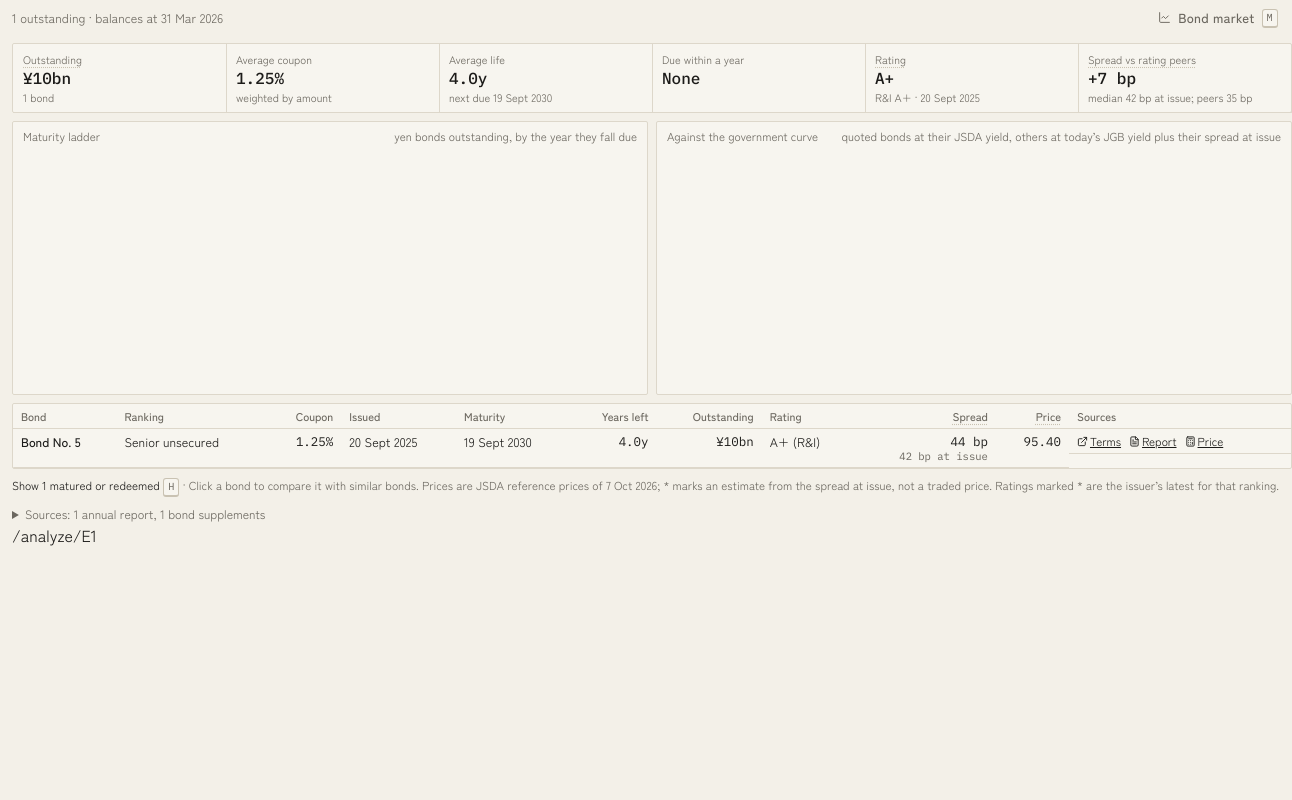
Company bonds › summarises the company’s bonds and hides matured ones until asked
Expected: the text "¥10bn" is shown, x1=23 y1=68 x2=71 y2=88
Expected: the text "+7 bp" is shown, x1=1088 y1=68 x2=1136 y2=88
Press h
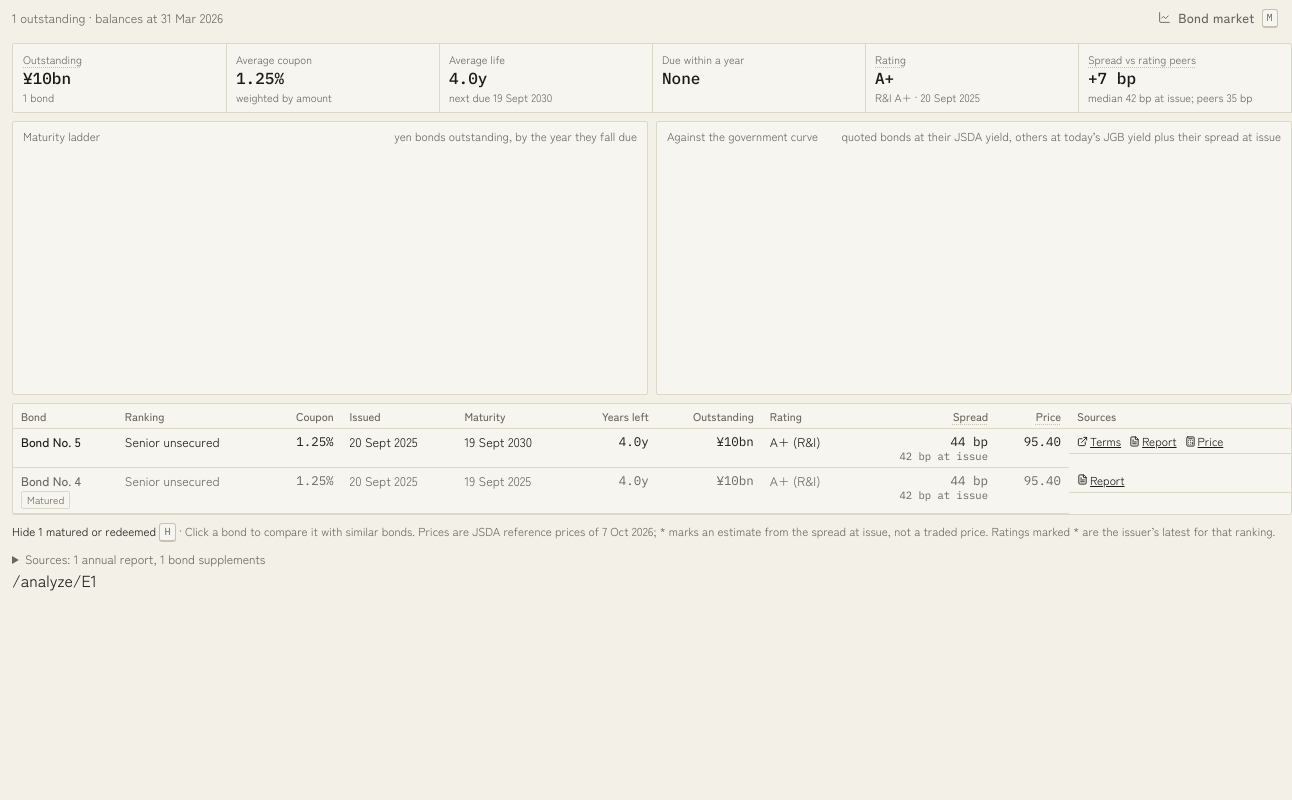
Click the row named "アルファ自動車株式会社第5回無担保社債(社債間限定同順位特約付)": (652, 448) x1=13 y1=429 x2=1291 y2=468
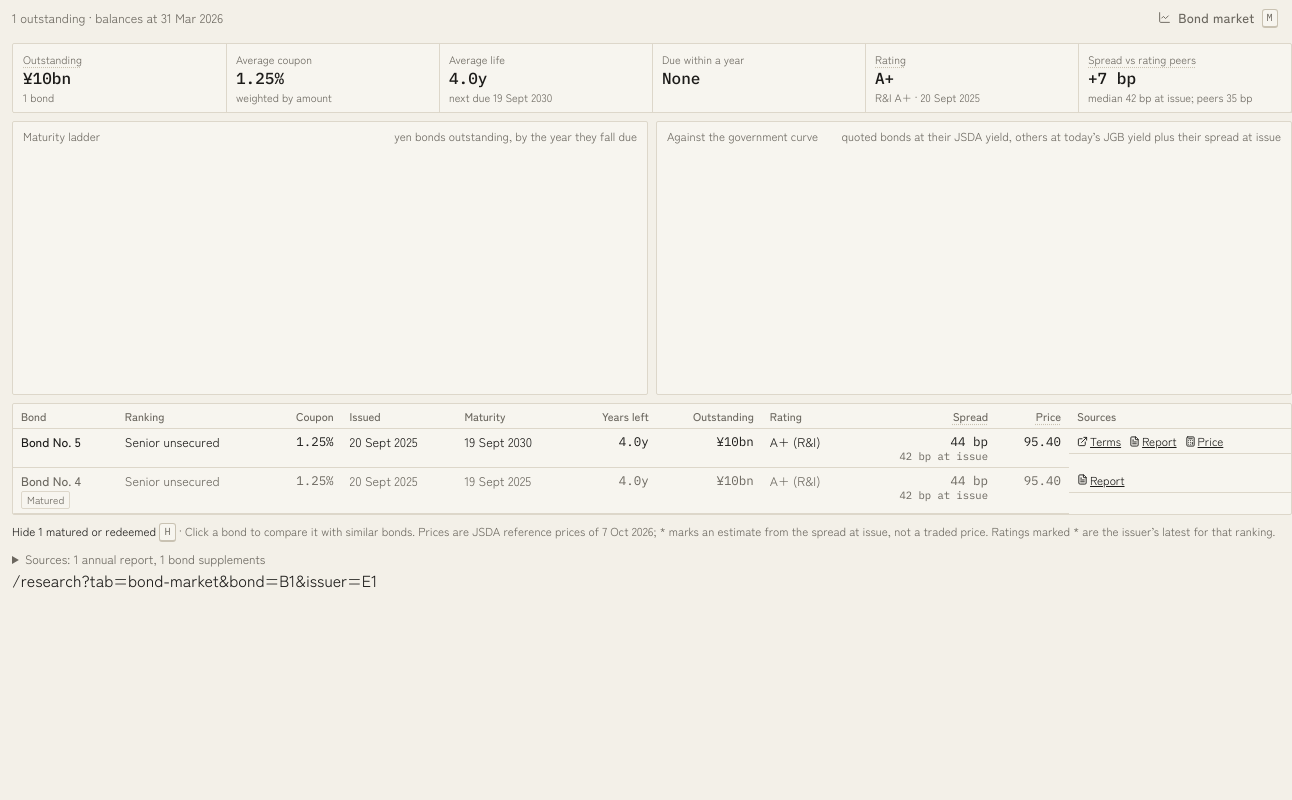
Now the text with test id "location" reads "/research?tab=bond-market&bond=B1&issuer=E1", box x1=12 y1=568 x2=377 y2=592
